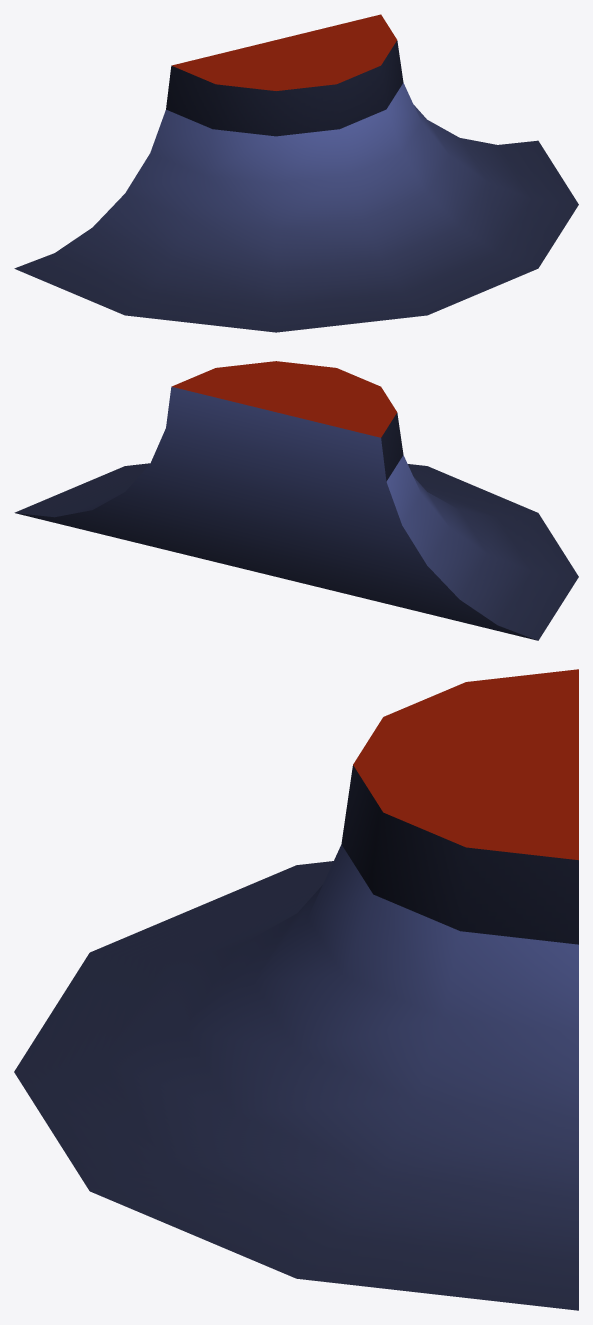
Rendered from obstacle-end.fbx.
3 views of the same model, one above another, from view 1: azimuth 30°, elevation 25°; view 2: azimuth 150°, elevation 25°; view 3: azimuth 270°, elevation 25° (orthographic). The views are drawn at different scales.
Parts seen in each view (by area): view 1: obstacle-end; view 2: obstacle-end; view 3: obstacle-end.
Part boxes in pixels (x1,y1,x2,y2): obstacle-end: [14, 14, 578, 332]; obstacle-end: [14, 361, 578, 640]; obstacle-end: [14, 669, 578, 1310].
Size of the model in its own units: 10 by 3 by 5.
